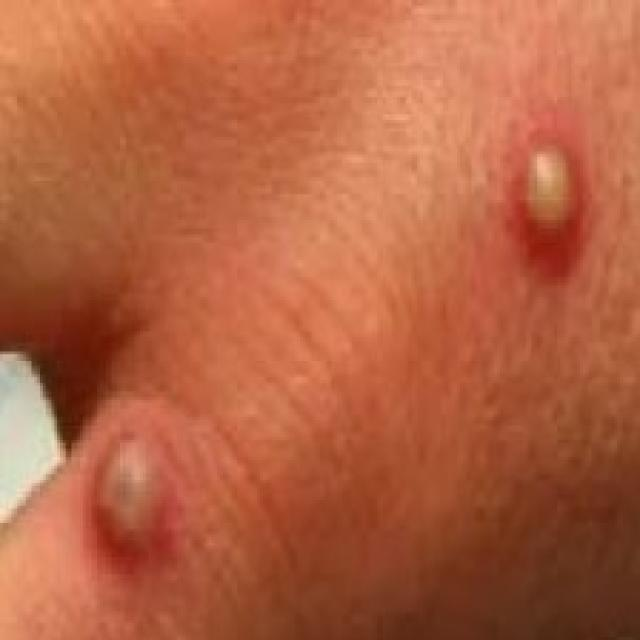Eczema: (87, 433, 180, 576), (502, 121, 599, 256)
